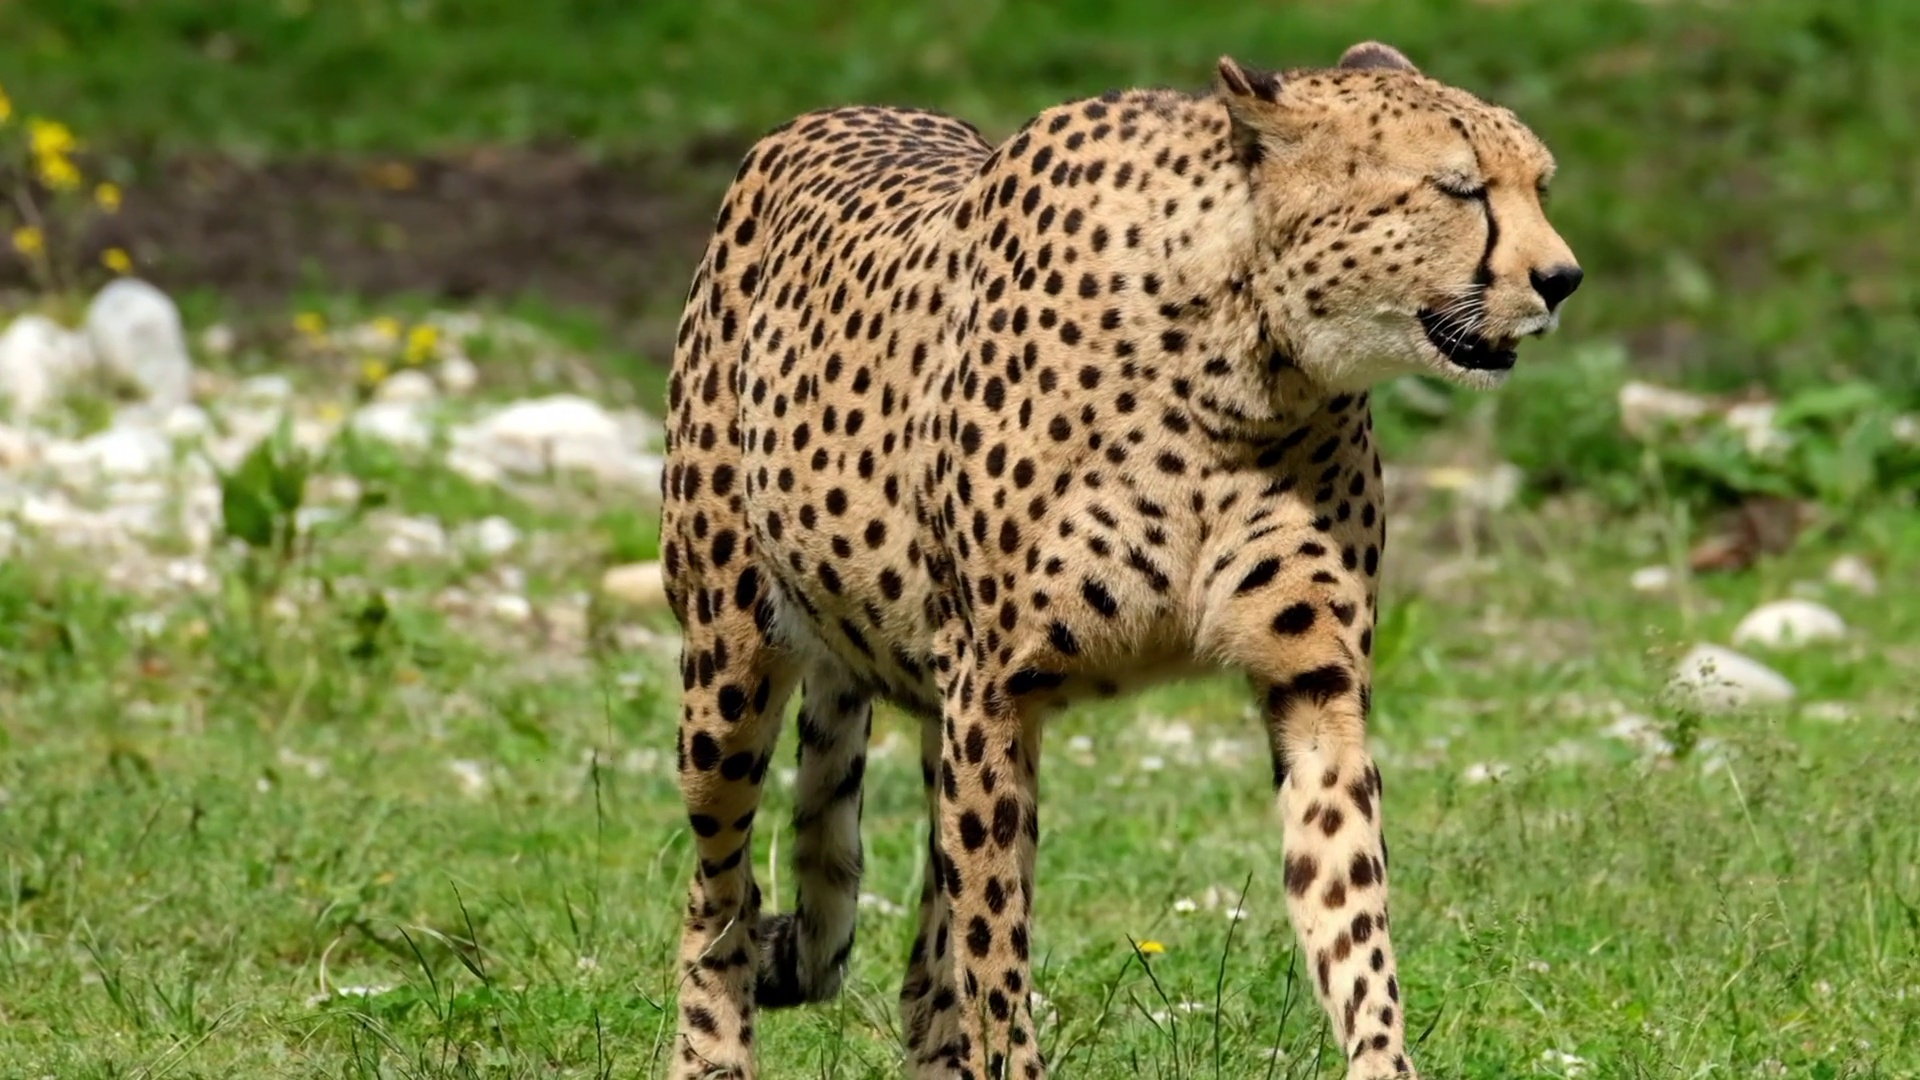Cheetah: (651, 34, 1586, 1080)
